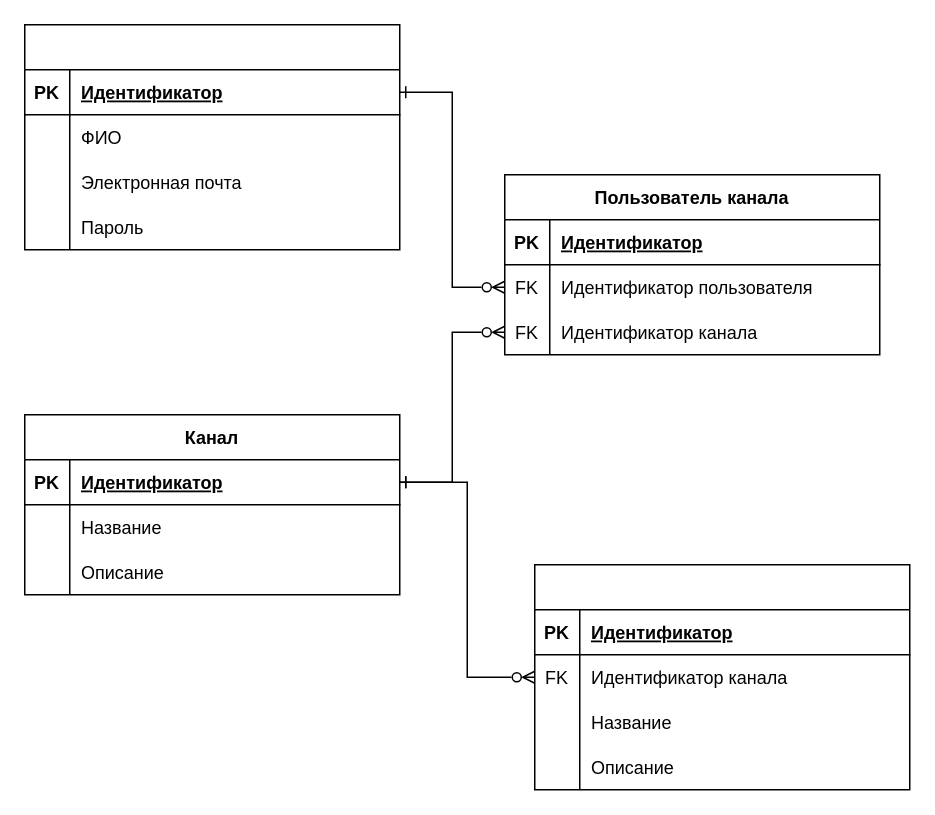
Image size: 935x815. Some labels were removed from this diagram. The shapes that lost their labels are listed below. From the top down, each one's box as (x1, y1, x2, y2) in pixels, then its label:
(23, 23, 400, 250): Пользователь
(533, 563, 910, 790): Чат
